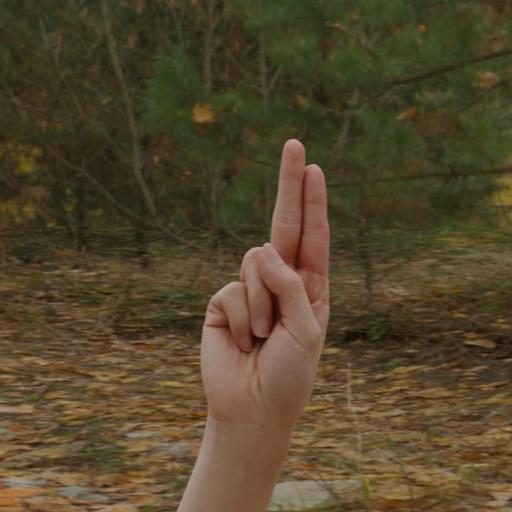U: (179, 130, 350, 446)
